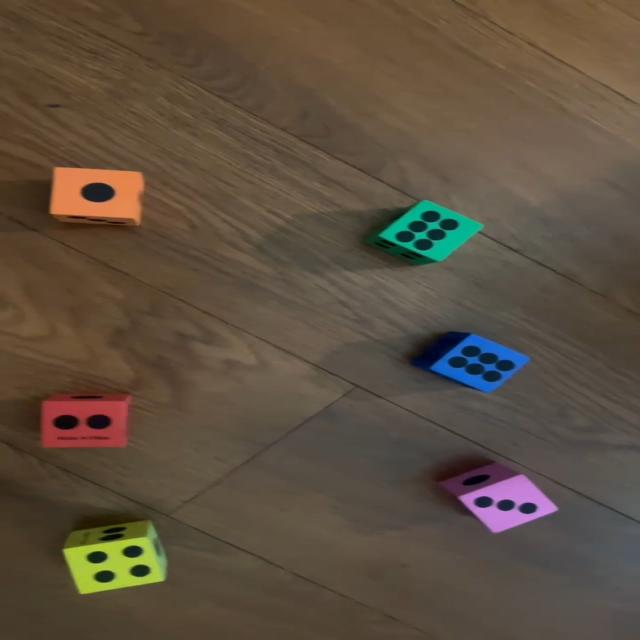blue_block: (417, 332, 532, 392)
red_block: (45, 392, 131, 450)
